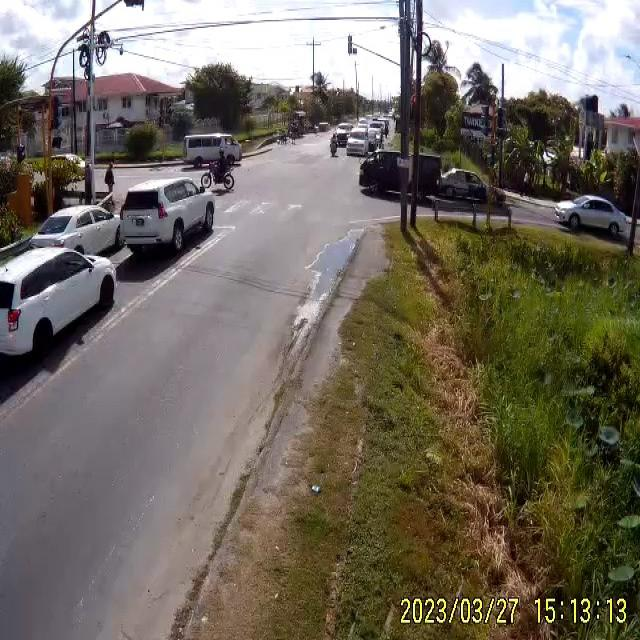car: (0, 242, 120, 375), (119, 176, 218, 258), (31, 204, 126, 256), (359, 152, 441, 202), (555, 197, 635, 241), (184, 134, 242, 170), (437, 170, 487, 203), (345, 134, 368, 155), (331, 129, 351, 153)
motorbike: (200, 162, 237, 195)
person: (103, 163, 114, 194)
